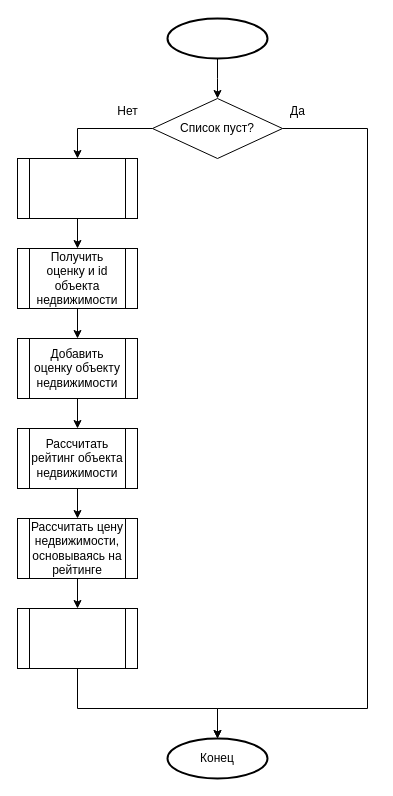
Some shapes in this 393 by 796 pixel diagram are drawn without their labels. Here are the shapes that lost their labels. From the top down, the centre of each, then its label:
(x=217, y=38): Начало
(x=77, y=188): Показать информацию об объектах
(x=77, y=638): Записать данные в файл
